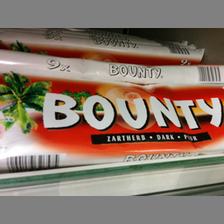chocolate: (1, 50, 224, 170)
